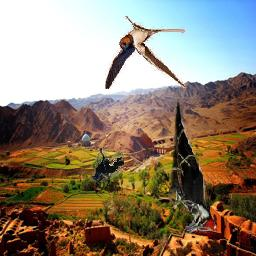Crow: (90, 148, 124, 182)
Swallow: (105, 15, 185, 89)
Woodpecker: (170, 96, 217, 235)
